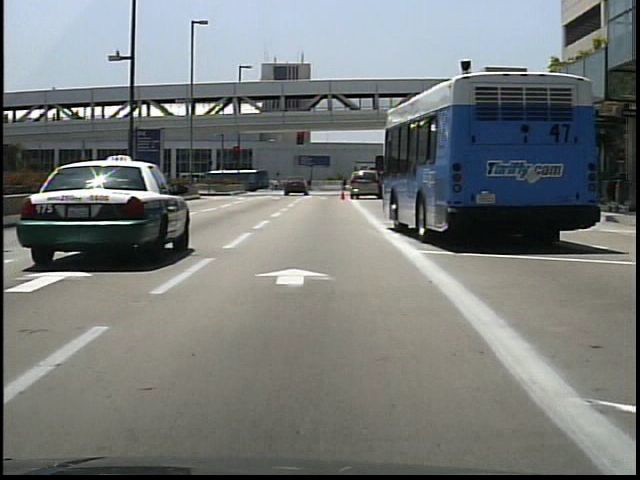person: (305, 178, 315, 194), (340, 176, 349, 192)
